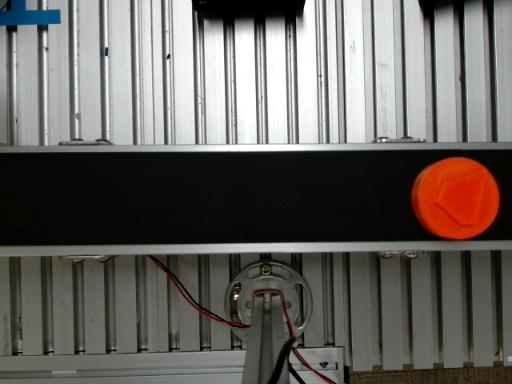Not_Square: (437, 170, 486, 226)
Orange_Waper: (412, 158, 499, 238)
